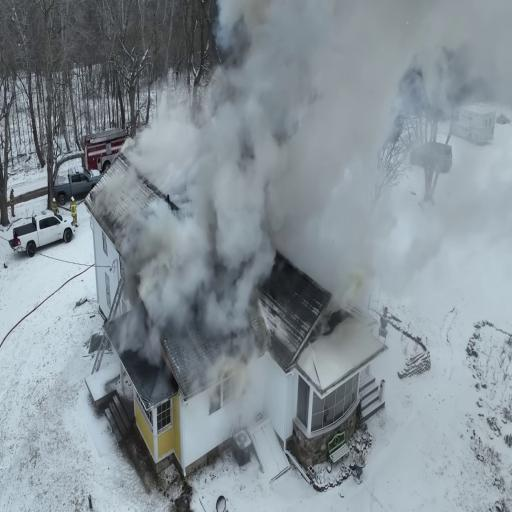smoke: (260, 29, 367, 243)
